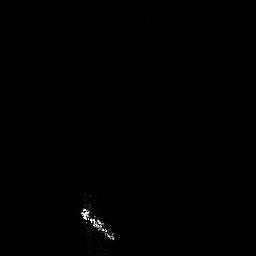ship: (80, 206, 116, 242)
